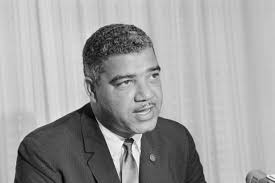black_male: (90, 24, 169, 146)
